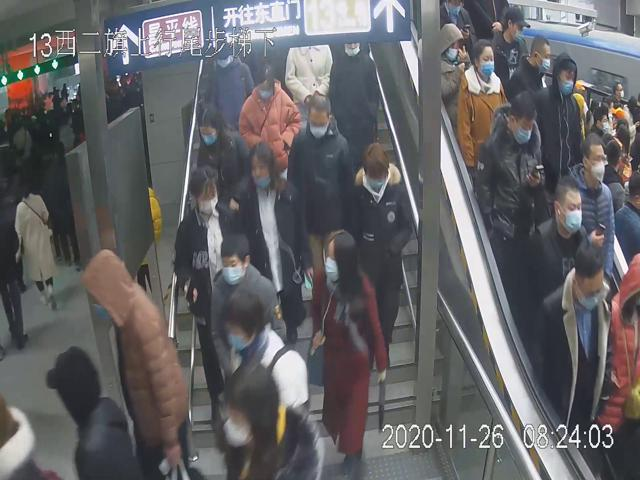person: (311, 231, 387, 473), (173, 164, 240, 392), (237, 138, 310, 333), (496, 179, 595, 321), (351, 138, 413, 343), (469, 88, 545, 254), (208, 234, 293, 378), (238, 59, 306, 172), (529, 49, 585, 176), (455, 34, 508, 167), (193, 100, 246, 195)
